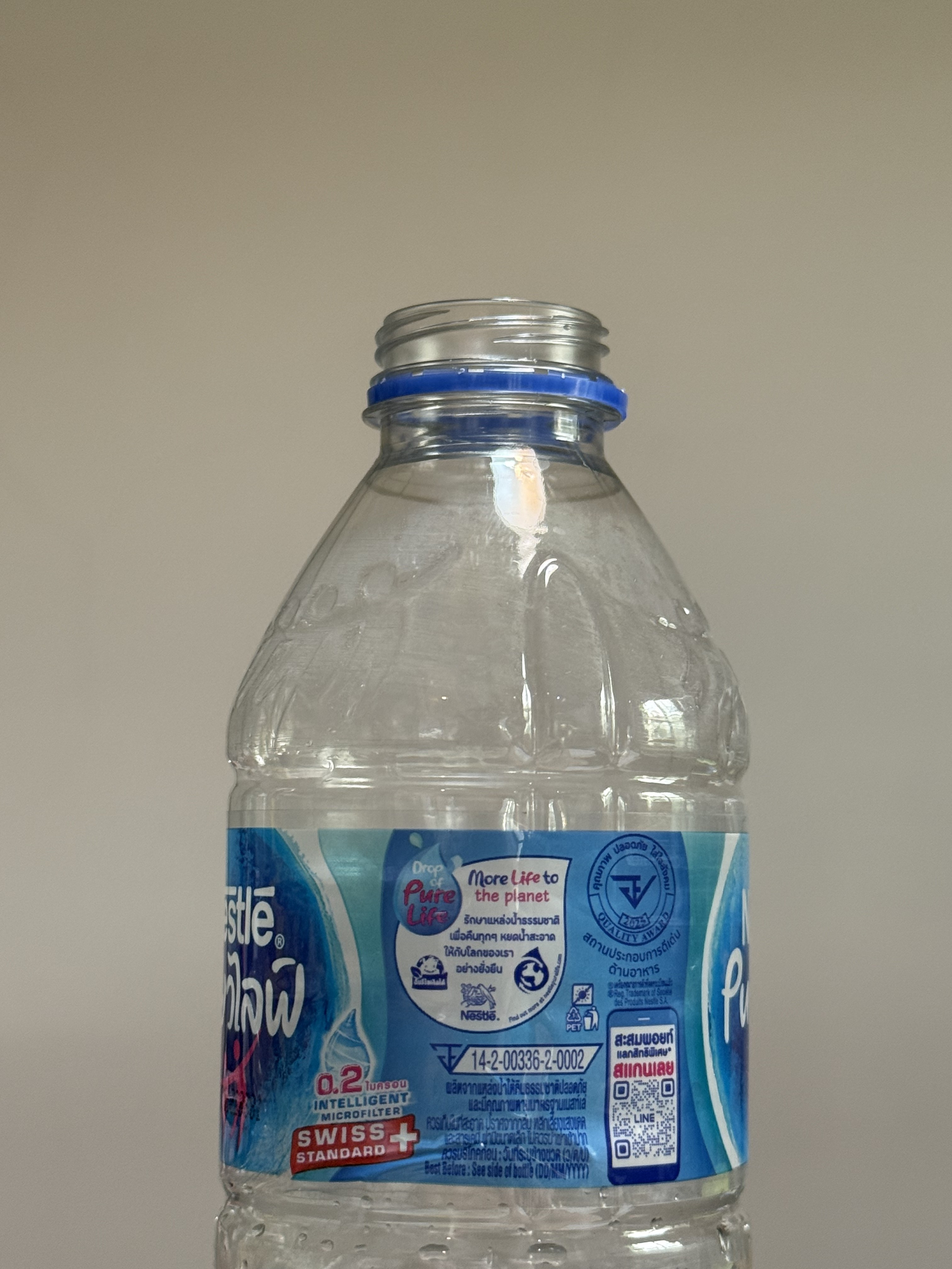no_cap: (365, 295, 626, 421)
